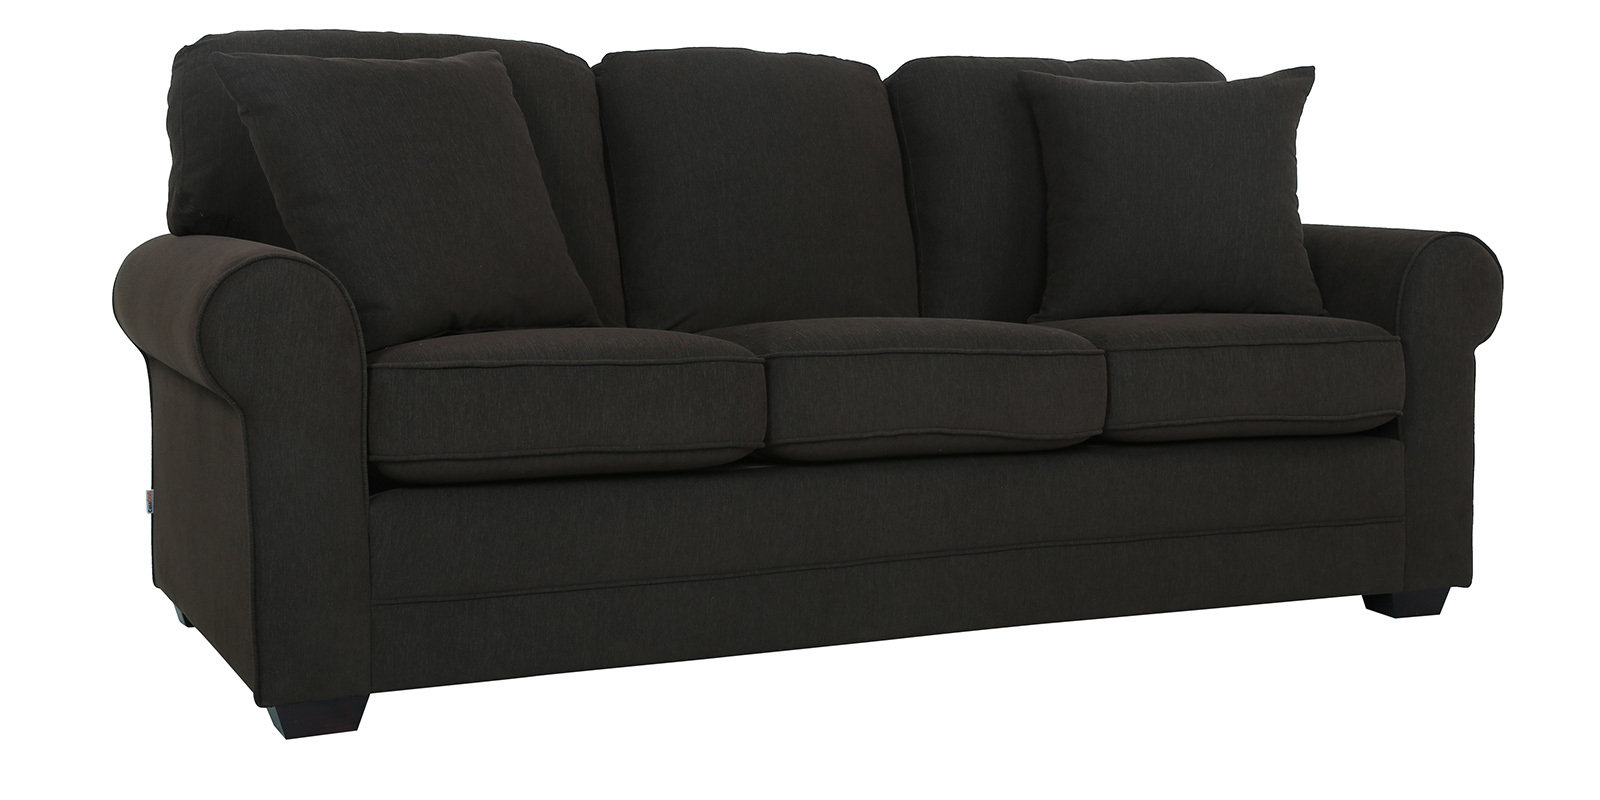Madeira Three Seater Sofa in Chestnut Brown Colour by CasaCraft: (111, 26, 1505, 739)
